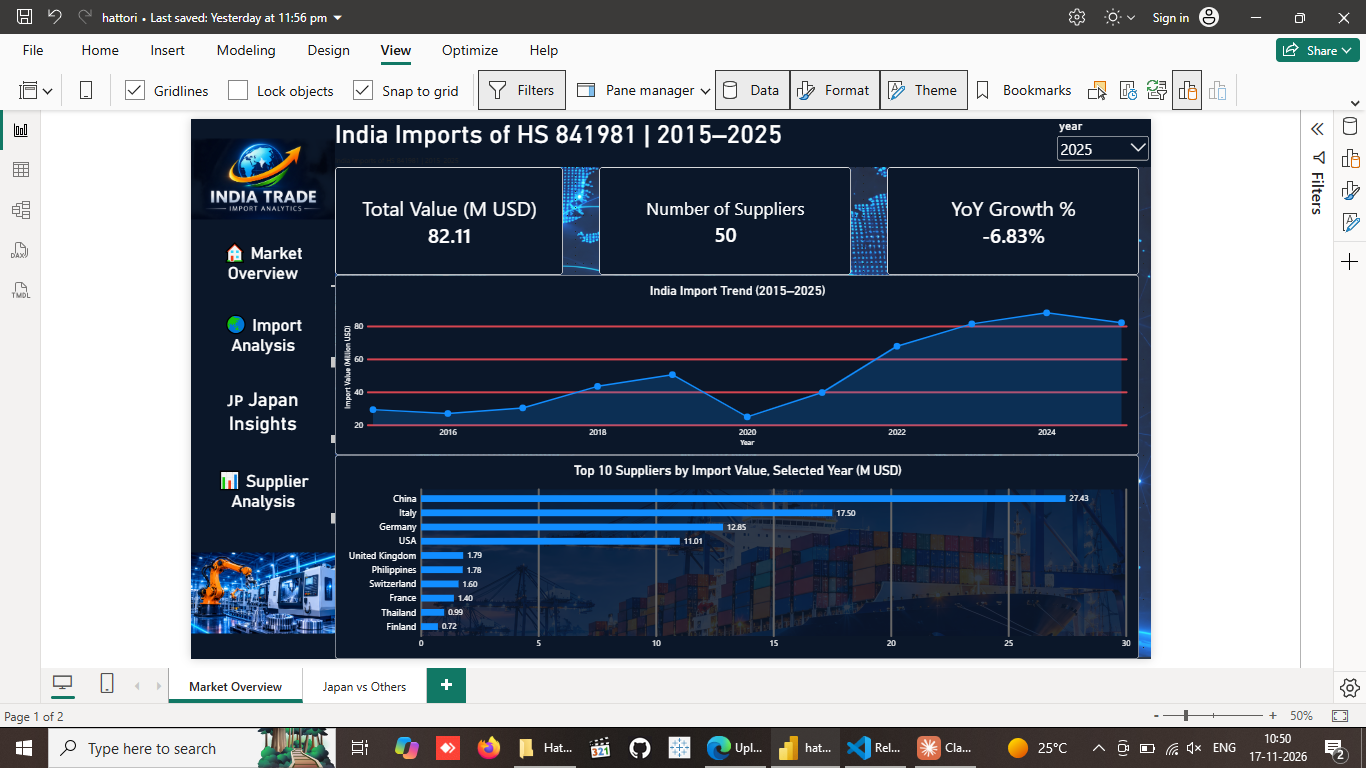

Layout of this report page (visuals, bound fields, positions):
{"tool":"powerbi","page":{"name":"Market Overview","canvas":[1920,1080],"ordinal":0},"visuals":[{"type":"textbox","title":"India Imports of HS 841981 | 2015–2025","box":[288,0,1632,96],"z":0},{"type":"slicer","fields":{"Values":["Imports.year"]},"box":[1728,0,192,120],"z":1000},{"type":"lineChart","title":"India Import Trend (2015–2025)","fields":{"Category":["Imports.year"],"Y":["Imports.Total Value (M USD)"]},"box":[288,312,1608,360],"z":2000},{"type":"clusteredBarChart","title":"Top 10 Suppliers by Import Value, Selected Year (M USD)","fields":{"Category":["Imports.partner"],"Y":["Imports.Total Value (M USD)"]},"box":[288,672,1608,408],"z":3000},{"type":"cardVisual","title":"Total Import Value (M USD).","fields":{"Data":["Imports.Total Value (M USD)"]},"box":[288,96,456,216],"z":4000},{"type":"cardVisual","fields":{"Data":["Imports.Number of Suppliers"]},"box":[816,96,504,216],"z":5000},{"type":"cardVisual","fields":{"Data":["Imports.YoY Growth %"]},"box":[1392,96,504,216],"z":6000},{"type":"shape","box":[0,0,288,1080],"z":7000},{"type":"textbox","title":"🏠 Market Overview","box":[0,240,288,96],"z":8000},{"type":"textbox","title":"🌏 Import Analysis","box":[0,384,288,120],"z":9000},{"type":"textbox","title":"🇯🇵 Japan Insights","box":[0,528,288,120],"z":10000},{"type":"textbox","title":"📊 Supplier Analysis","box":[0,696,288,120],"z":11000},{"type":"image","box":[0,24,288,192],"z":12000},{"type":"image","box":[0,816,288,264],"z":13000}]}

Visuals, with their boxes on the page's 1920x1080 design canvas (x1, y1, x2, y2). These are canvas units, not pixel positions in the 1366x768 screenshot, which may show the page scaled, cropped or inside an application window:
"India Imports of HS 841981 | 2015–2025" textbox: 288, 0, 1920, 96
slicer - Imports.year: 1728, 0, 1920, 120
"India Import Trend (2015–2025)" lineChart: 288, 312, 1896, 672
"Top 10 Suppliers by Import Value, Selected Year (M USD)" clusteredBarChart: 288, 672, 1896, 1080
"Total Import Value (M USD)." cardVisual: 288, 96, 744, 312
cardVisual - Imports.Number of Suppliers: 816, 96, 1320, 312
cardVisual - Imports.YoY Growth %: 1392, 96, 1896, 312
shape: 0, 0, 288, 1080
"🏠 Market Overview" textbox: 0, 240, 288, 336
"🌏 Import Analysis" textbox: 0, 384, 288, 504
"🇯🇵 Japan Insights" textbox: 0, 528, 288, 648
"📊 Supplier Analysis" textbox: 0, 696, 288, 816
image: 0, 24, 288, 216
image: 0, 816, 288, 1080
